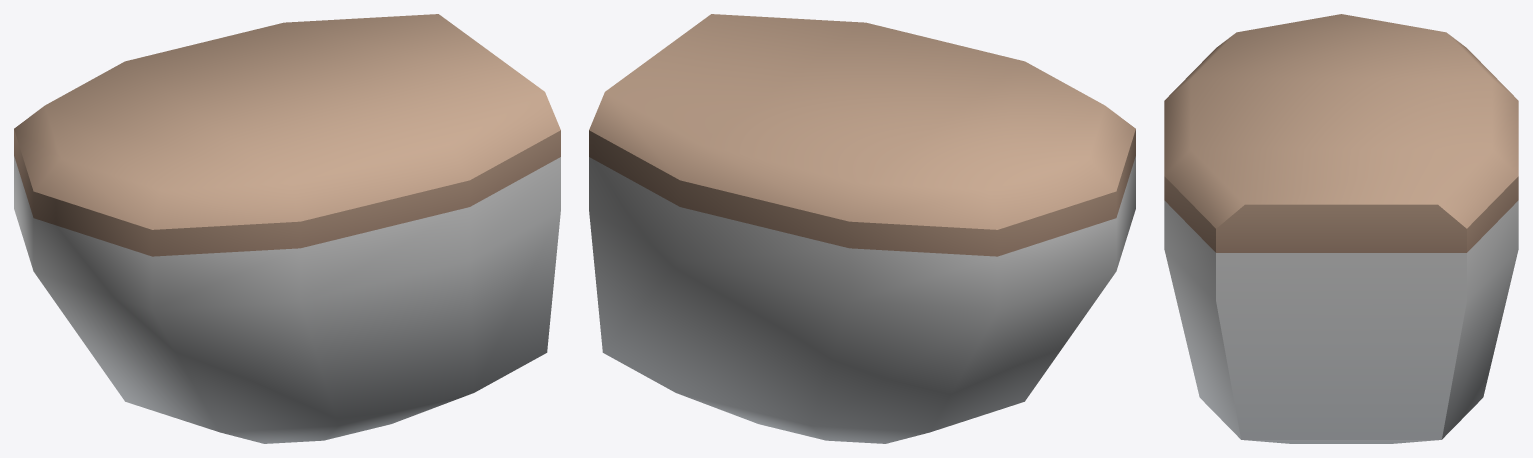
The model's file is toilet-floating-rounded (%wall).glb.
The picture shows the model from 3 angles, left to right: view 1: azimuth 30°, elevation 25°; view 2: azimuth 150°, elevation 25°; view 3: azimuth 270°, elevation 25°; orthographic projection. The views are drawn at different scales.
Parts seen in each view (by area): view 1: toilet-floating-rounded (%wall); view 2: toilet-floating-rounded (%wall); view 3: toilet-floating-rounded (%wall).
Part boxes in pixels (x1,y1,x2,y2): toilet-floating-rounded (%wall): [14, 14, 560, 443]; toilet-floating-rounded (%wall): [589, 14, 1135, 443]; toilet-floating-rounded (%wall): [1164, 14, 1518, 443].
Bounding box in the file's own units: 0.5123 × 0.3296 × 0.3785.
